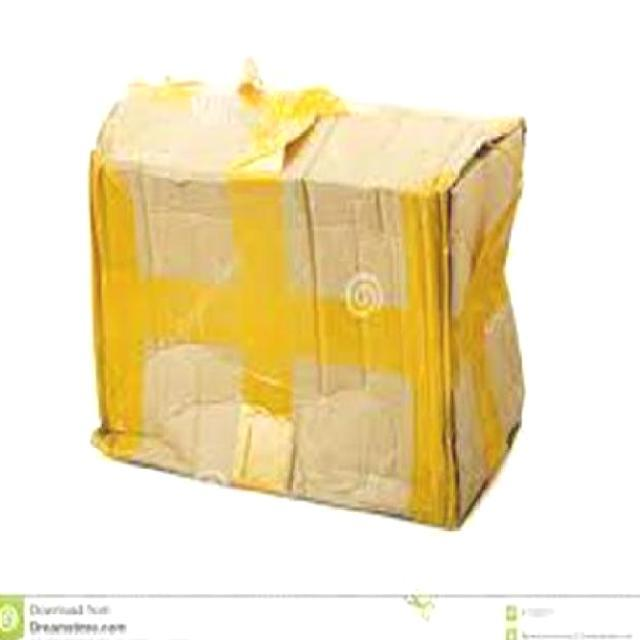box: (52, 98, 596, 523)
